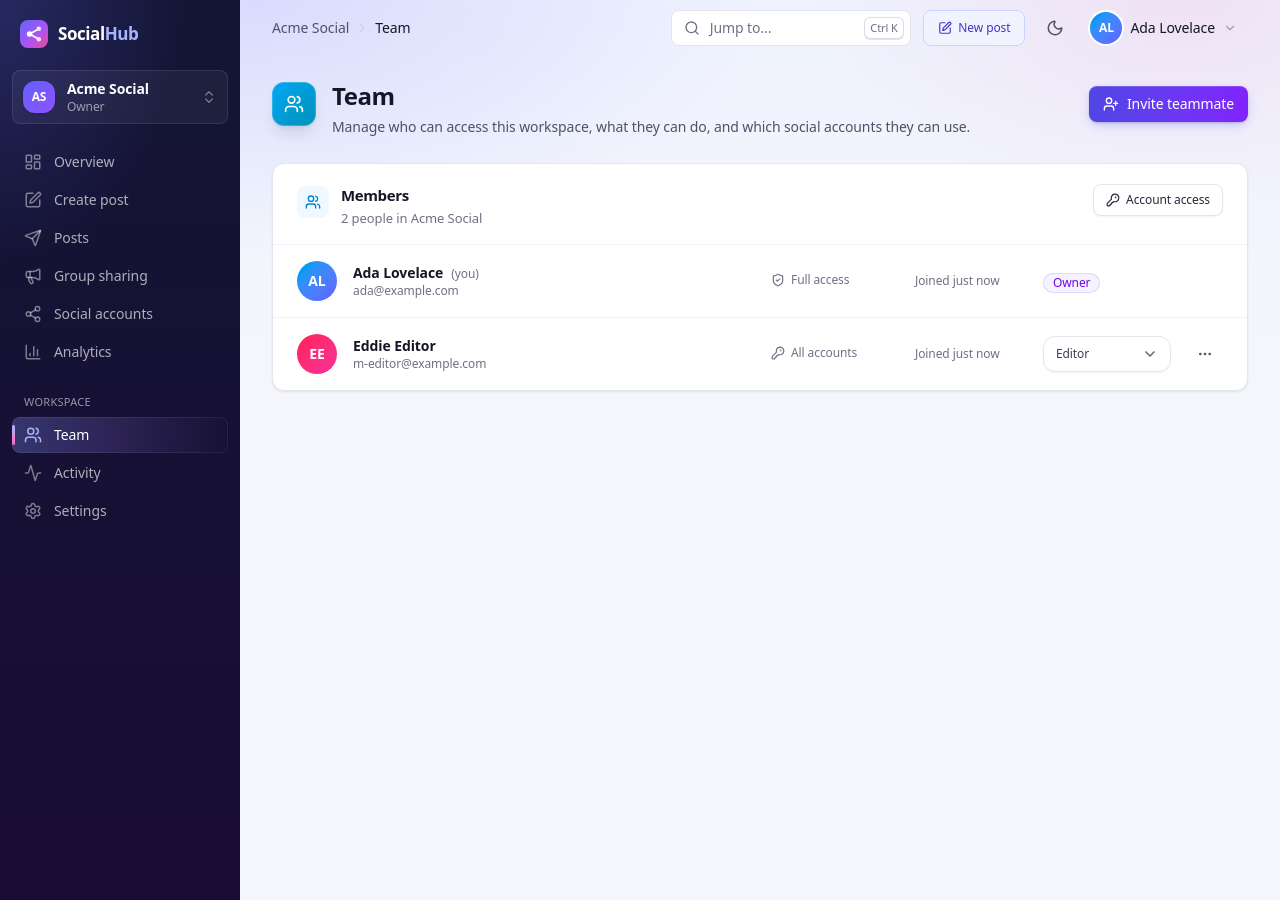
permission-aware UI › shows the invite link and email delivery status after inviting
Click the button "Invite teammate": (1168, 104) [1089,86,1248,122]
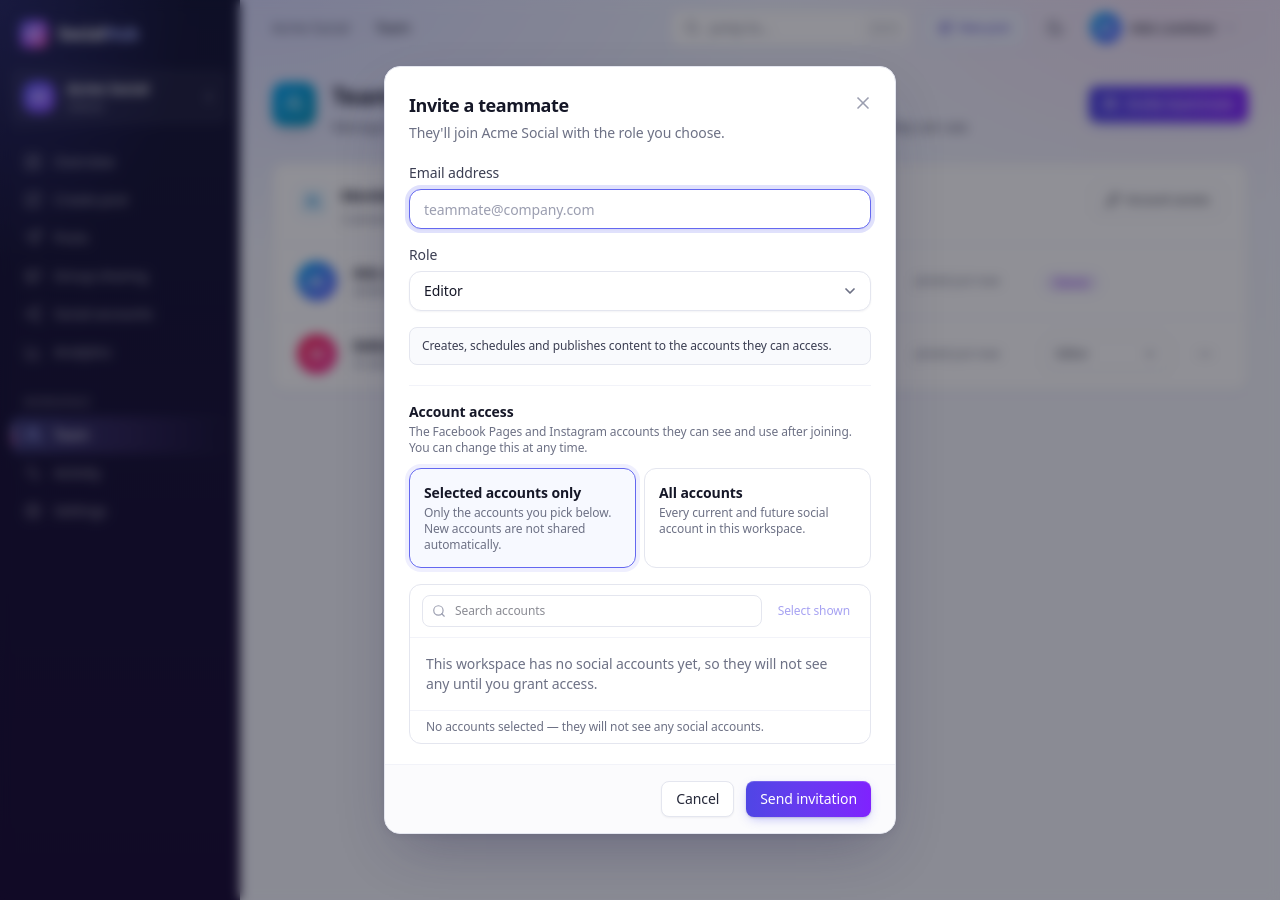
In the field labelled "Email address": (640, 209) [409,189,871,229], type "new@example.com"
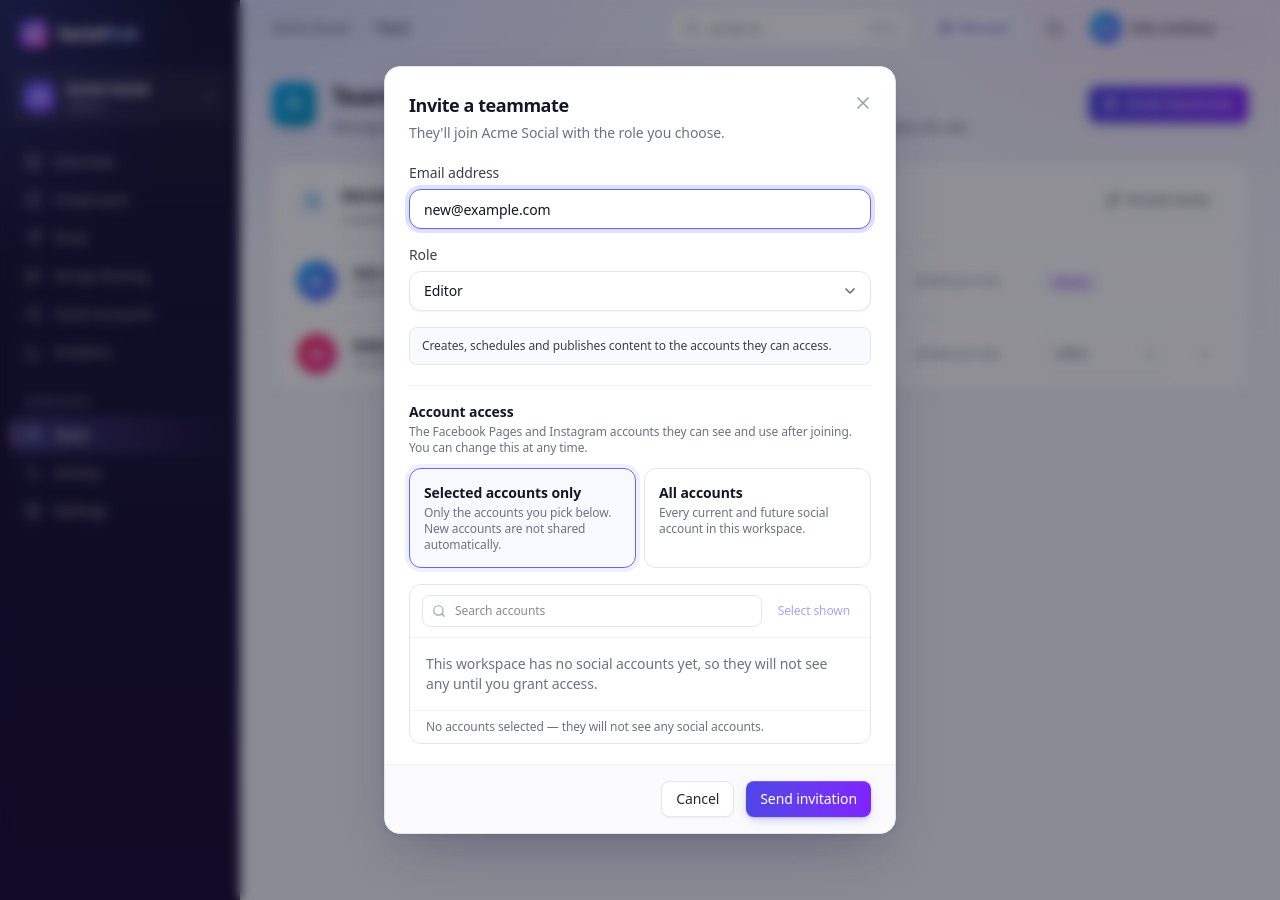
Click the button "Send invitation": (809, 799) [746,781,871,817]
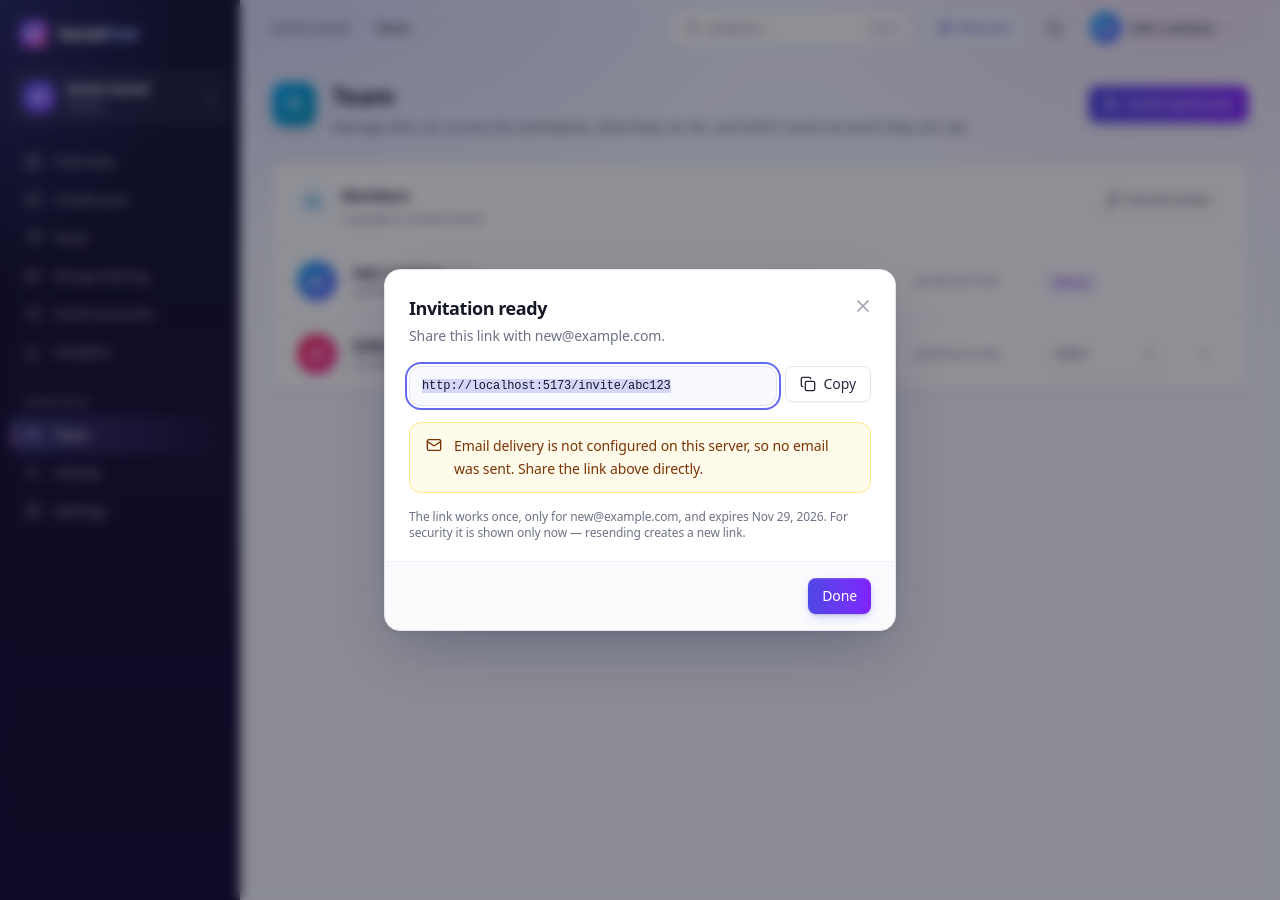
Expected: the field named "Invitation link" holds "http://localhost:5173/invite/abc123", [409,366,777,406]
Expected: the text "Email delivery is not configured" is shown, [454,436,828,478]
